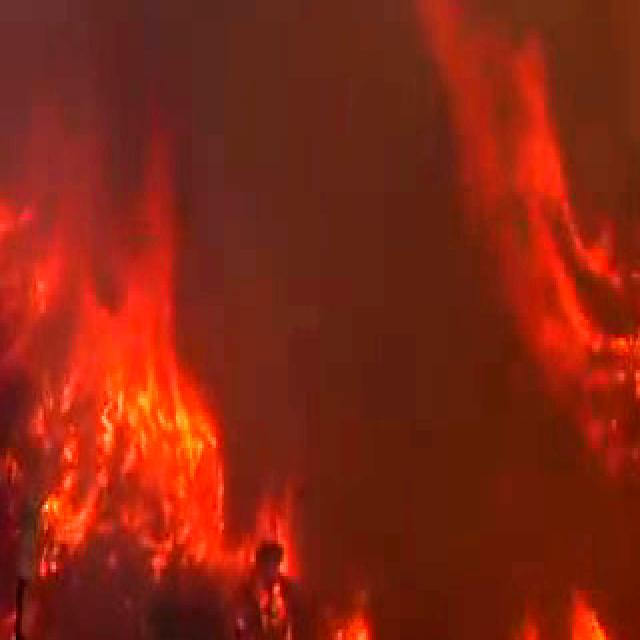fire: (0, 139, 218, 597), (194, 487, 396, 640), (518, 594, 640, 640)
smoke: (250, 134, 448, 440)
